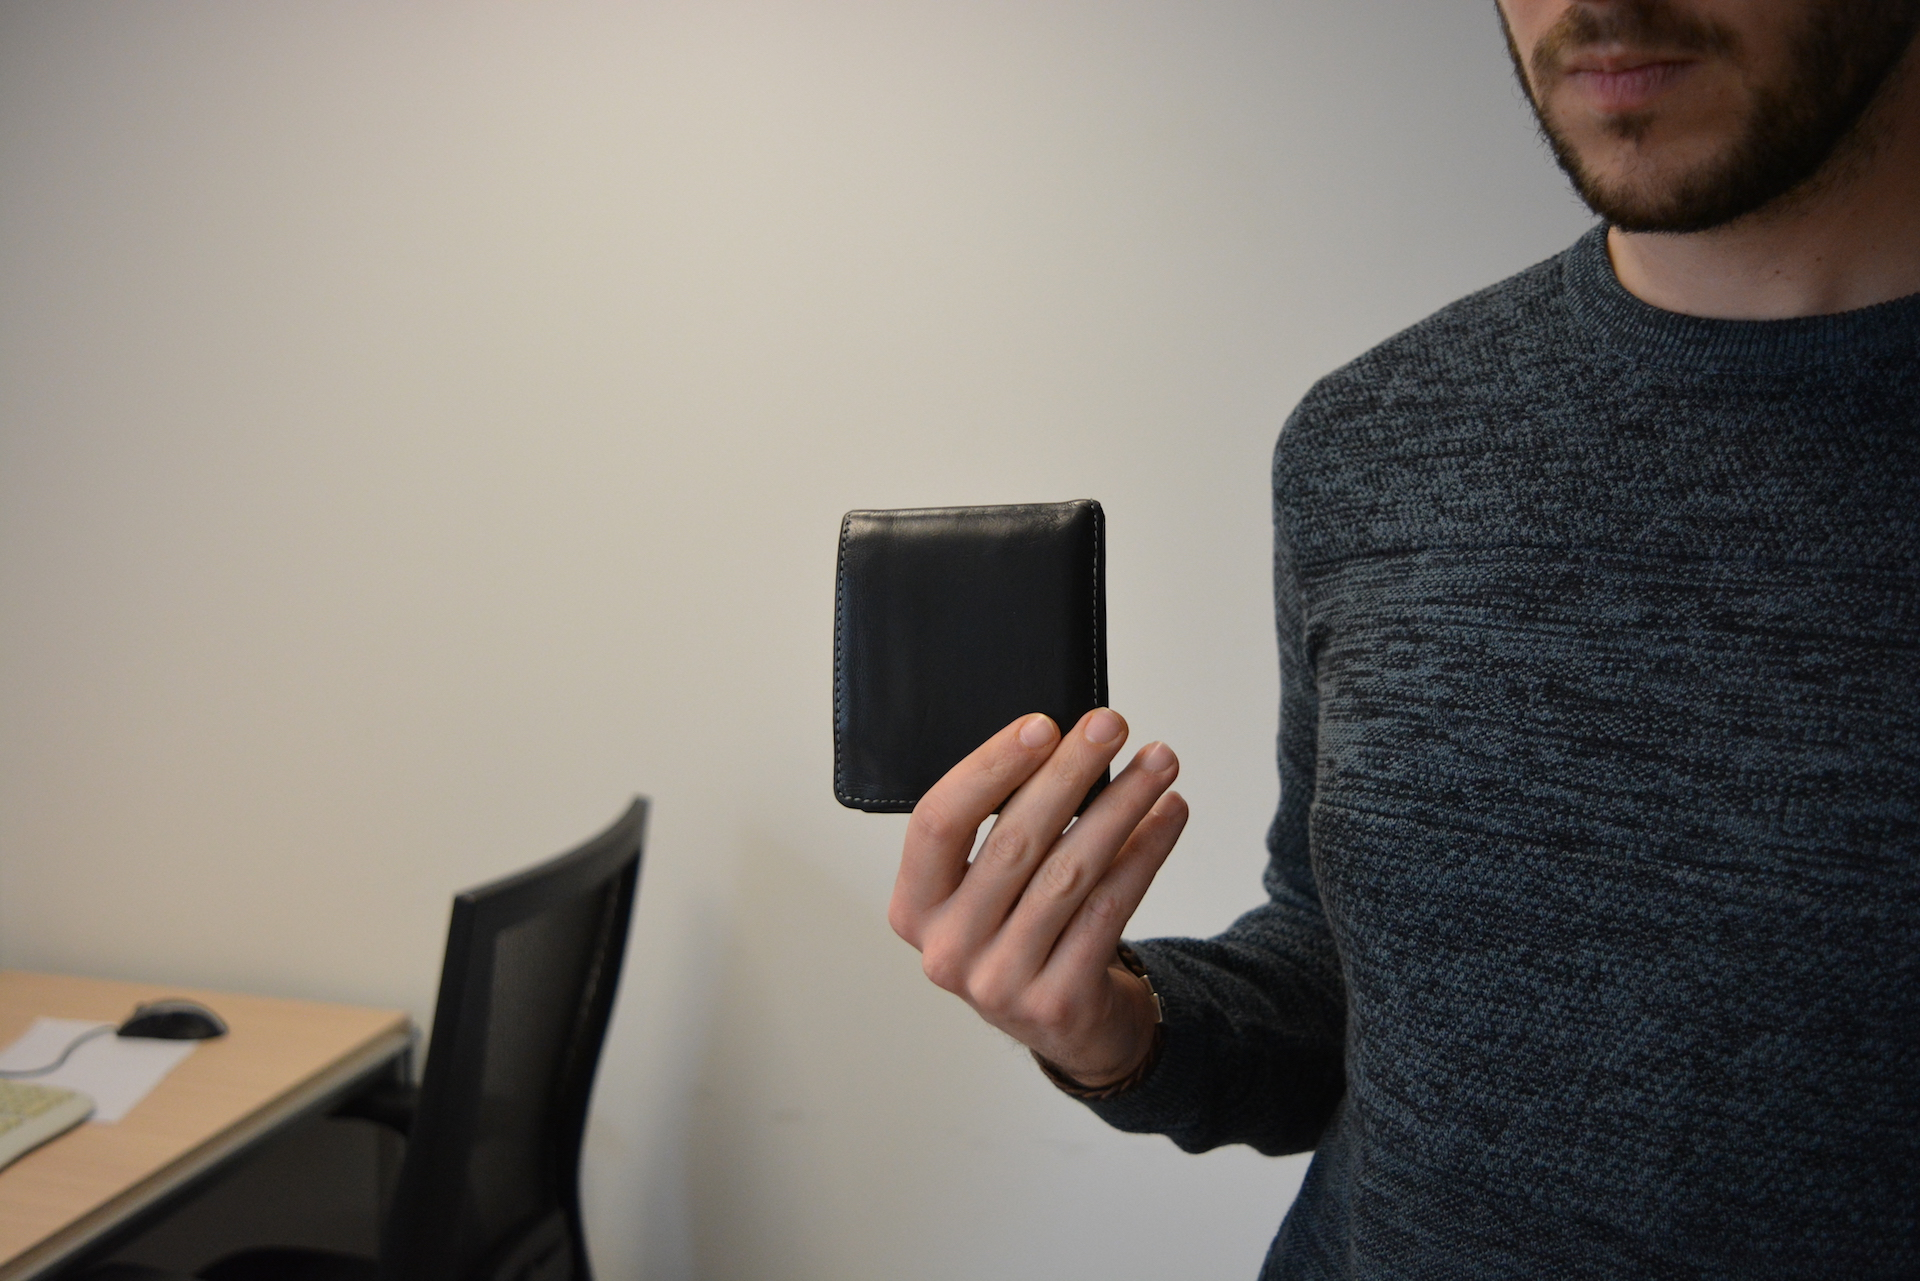monedero: (831, 496, 1117, 819)
